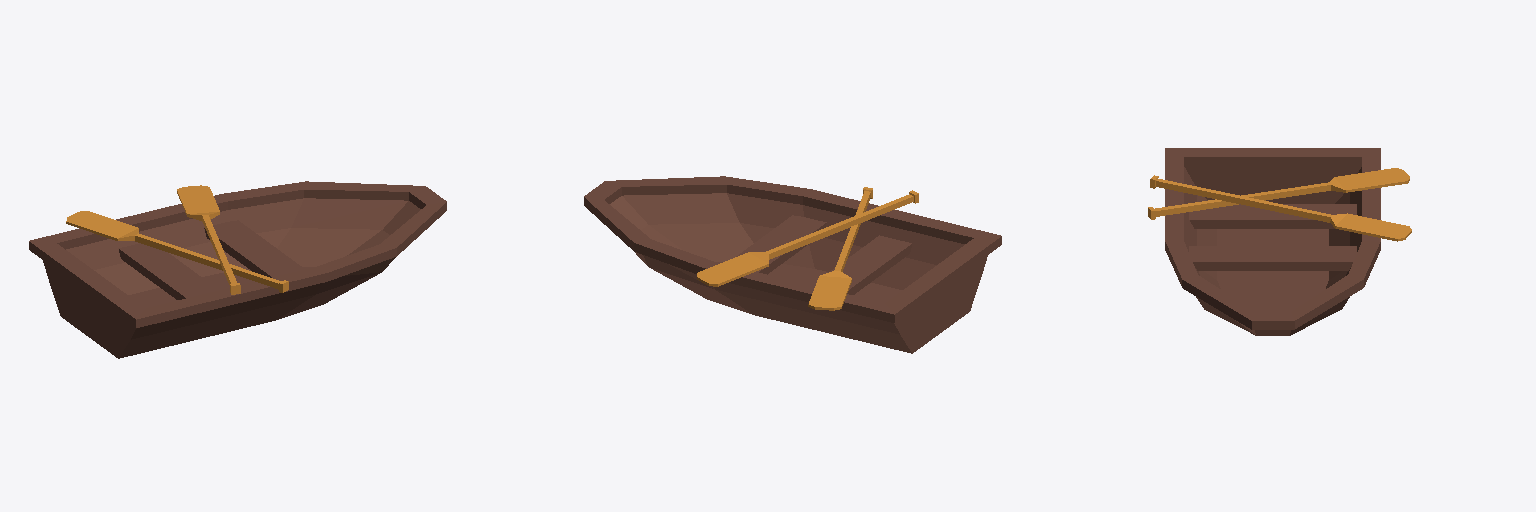
Rendered from Rowboat_01.obj.
The picture shows the model from 3 angles: view 1: azimuth 30°, elevation 25°; view 2: azimuth 150°, elevation 25°; view 3: azimuth 270°, elevation 25°; orthographic projection.
Parts seen in each view (by area): view 1: rowboat_Cube.028; view 2: rowboat_Cube.028; view 3: rowboat_Cube.028.
Part boxes in pixels (left/top/right/bottom): rowboat_Cube.028: left=29, top=181, right=446, bottom=358; rowboat_Cube.028: left=584, top=176, right=1001, bottom=353; rowboat_Cube.028: left=1148, top=148, right=1411, bottom=335.
Bounding box in the file's own units: 19.18 × 3.92 × 12.39.